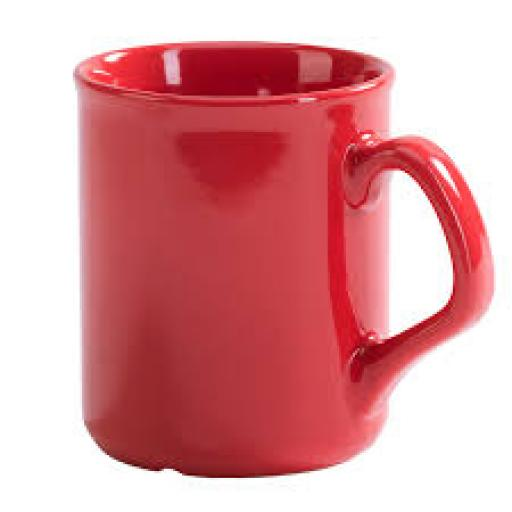red mug: (75, 43, 492, 476)
